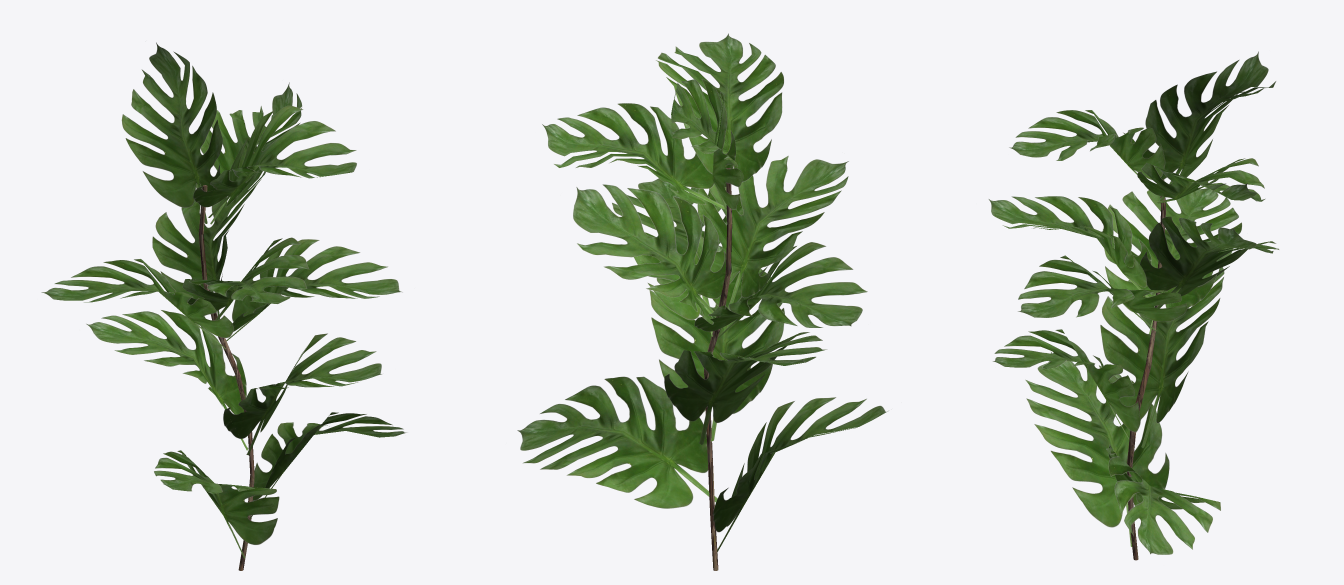
File: tropical-plant.gltf
3 views of the same model, side by side, from view 1: azimuth 30°, elevation 25°; view 2: azimuth 150°, elevation 25°; view 3: azimuth 270°, elevation 25° (orthographic). The views are drawn at different scales.
Parts seen in each view (by area): view 1: Plane847, Plane850, Plane846, Plane843, Plane841, Plane849, Plane844, Plane848, Plane842, Plane845, Plane851, Cylinder010; view 2: Plane845, Plane843, Plane842, Plane846, Plane851, Plane844, Plane850, Plane849, Plane848, Plane847, Plane841, Cylinder010; view 3: Plane848, Plane850, Plane847, Plane843, Plane841, Plane842, Plane845, Plane844, Plane846, Plane849, Plane851, Cylinder010.
Part boxes in pixels (<box>): Plane847: <box>121,42,222,223</box>; Plane850: <box>86,310,248,450</box>; Plane846: <box>193,105,356,217</box>; Plane843: <box>152,169,265,319</box>; Plane841: <box>226,239,402,341</box>; Plane849: <box>223,333,381,455</box>; Plane844: <box>41,258,233,349</box>; Plane848: <box>154,450,279,558</box>; Plane842: <box>182,237,308,320</box>; Plane845: <box>250,412,407,518</box>; Plane851: <box>196,82,302,224</box>; Cylinder010: <box>198,185,254,570</box>; Plane845: <box>517,376,717,508</box>; Plane843: <box>573,184,731,324</box>; Plane842: <box>696,155,848,310</box>; Plane846: <box>655,33,784,190</box>; Plane851: <box>542,103,724,209</box>; Plane844: <box>694,242,867,338</box>; Plane850: <box>664,332,827,444</box>; Plane849: <box>649,245,784,441</box>; Plane848: <box>713,397,887,551</box>; Plane847: <box>671,79,743,210</box>; Plane841: <box>612,178,743,336</box>; Cylinder010: <box>704,168,732,570</box>; Plane848: <box>1025,351,1169,546</box>; Plane850: <box>1100,267,1224,447</box>; Plane847: <box>1142,51,1276,201</box>; Plane843: <box>1140,216,1279,308</box>; Plane841: <box>1018,255,1187,331</box>; Plane842: <box>988,196,1151,297</box>; Plane845: <box>1106,445,1220,554</box>; Plane844: <box>1102,188,1242,334</box>; Plane846: <box>1009,110,1165,195</box>; Plane849: <box>993,329,1140,439</box>; Plane851: <box>1137,158,1265,203</box>; Cylinder010: <box>1127,179,1165,560</box>.
Bounding box in the file's own units: 103 × 139 × 88.72.
Materials: 2 (2 with a texture image).
